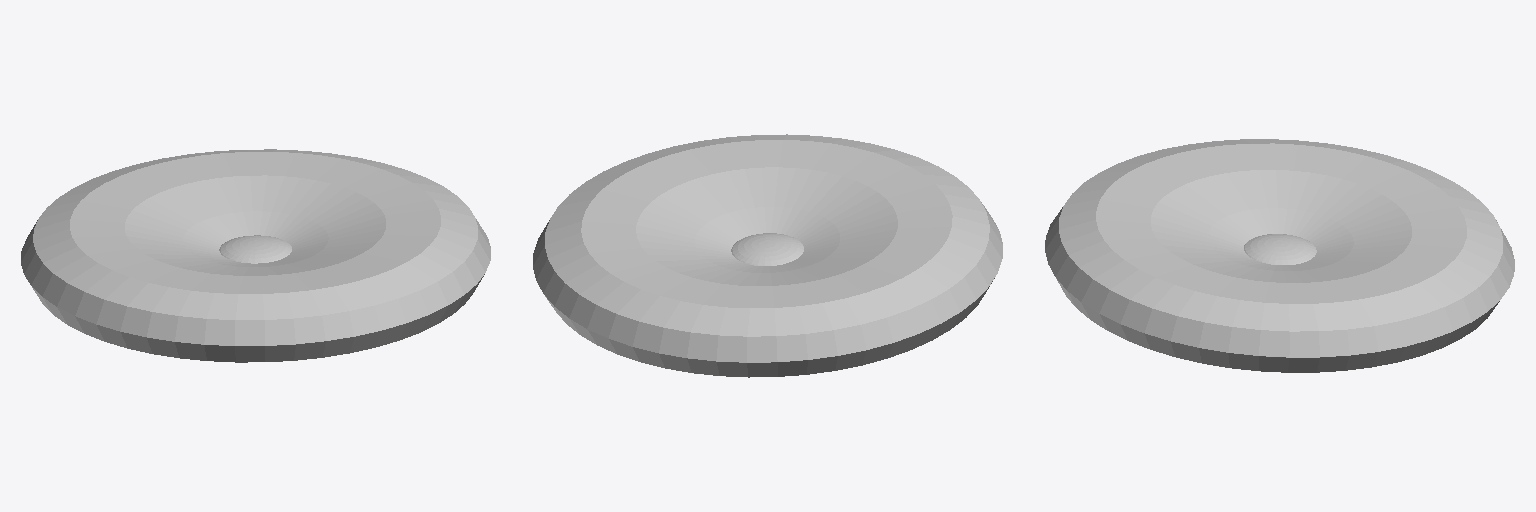
The model's file is galaxy.obj.
The picture shows the model from 3 angles: view 1: azimuth 30°, elevation 25°; view 2: azimuth 150°, elevation 25°; view 3: azimuth 270°, elevation 25°; orthographic projection.
Visible parts, largest first — view 1: Torus, Sphere; view 2: Torus, Sphere; view 3: Torus, Sphere.
Boxes of the visible parts, box(x1,y1,x2,y2) form: Torus: box(21, 149, 490, 362); Sphere: box(219, 235, 291, 263); Torus: box(533, 134, 1002, 377); Sphere: box(731, 233, 803, 265); Torus: box(1045, 139, 1514, 372); Sphere: box(1244, 234, 1316, 264).
Bounding box in the file's own units: 2.31 × 0.434 × 2.31.